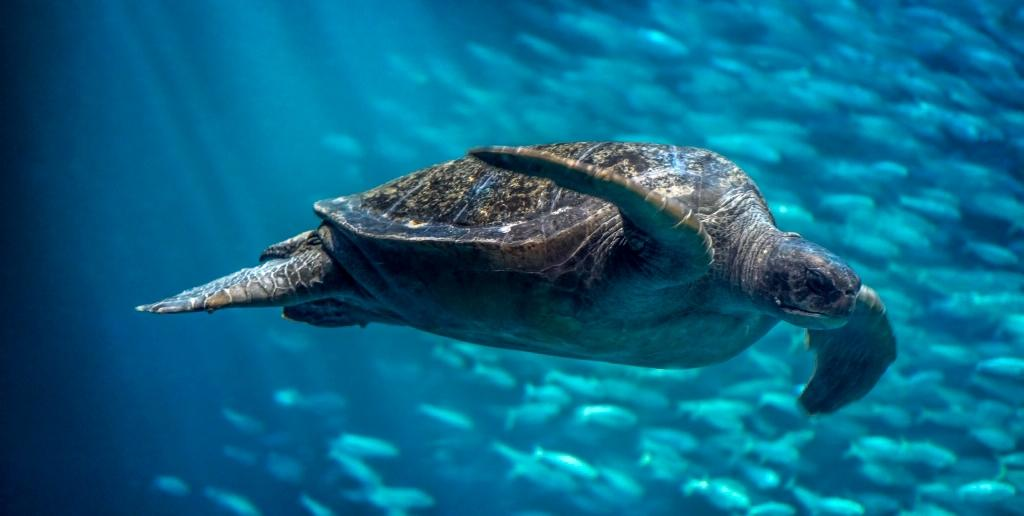turtle: (745, 236, 867, 336)
